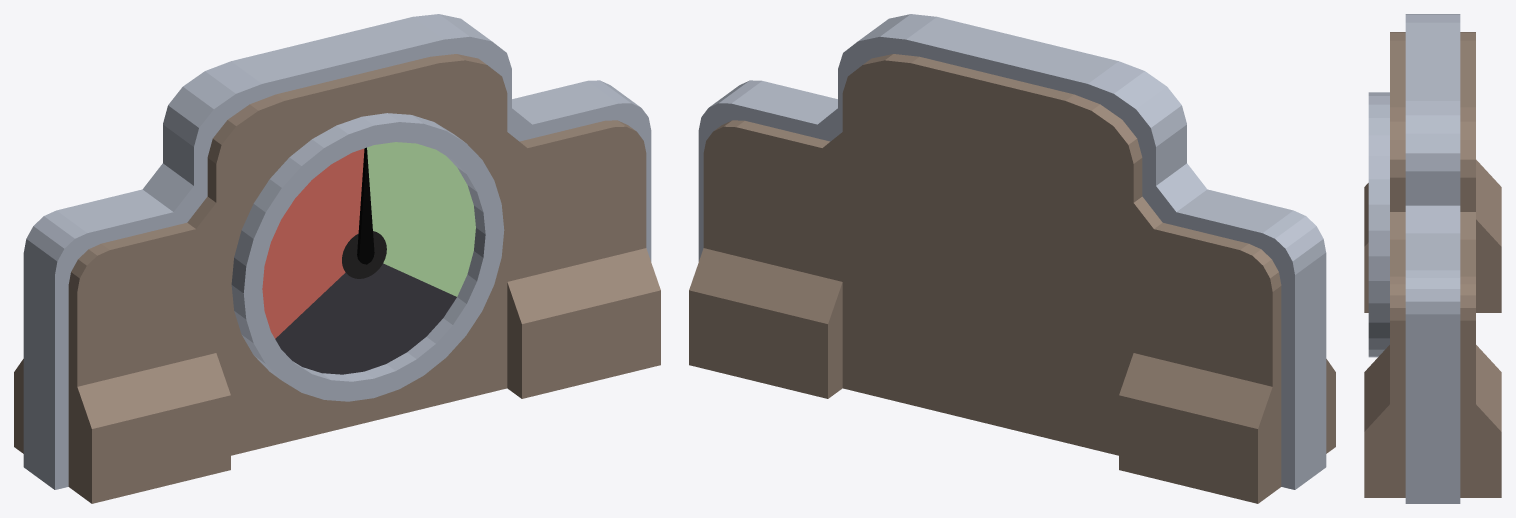
Rendered from gauge.gltf.
The picture shows the model from 3 angles, left to right: view 1: azimuth 30°, elevation 25°; view 2: azimuth 150°, elevation 25°; view 3: azimuth 270°, elevation 25°; orthographic projection. The views are drawn at different scales.
Visible parts, largest first — view 1: housing, guage, pekare; view 2: housing; view 3: housing, guage.
Part boxes in pixels (x1,y1,x2,y2): housing: (14, 14, 660, 503); guage: (231, 113, 504, 401); pekare: (357, 147, 374, 264); housing: (689, 14, 1335, 503); housing: (1364, 14, 1501, 503); guage: (1368, 92, 1389, 357).
Size of the model in its own units: 0.8242 by 0.4698 by 0.1865.
